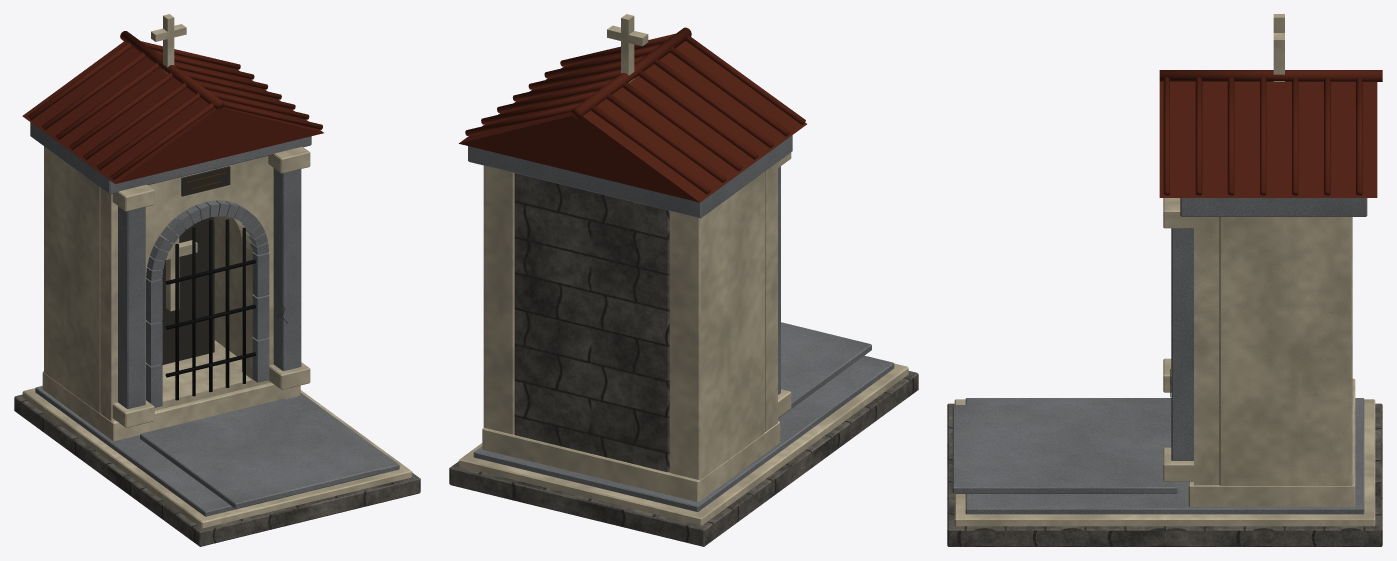
File: tumba_05_capilla_nicho.obj
3 renders of one model, left to right at view 1: azimuth 30°, elevation 25°; view 2: azimuth 150°, elevation 25°; view 3: azimuth 270°, elevation 25°, orthographic. The views are drawn at different scales.
Parts seen in each view (by area): view 1: Tumba_05_Capilla_Nicho; view 2: Tumba_05_Capilla_Nicho; view 3: Tumba_05_Capilla_Nicho.
Part boxes in pixels (<box>): Tumba_05_Capilla_Nicho: <box>14,14,420,546</box>; Tumba_05_Capilla_Nicho: <box>449,14,918,546</box>; Tumba_05_Capilla_Nicho: <box>947,14,1382,546</box>.
Size of the model in its own units: 1.65 by 2.85 by 2.4.
Materials: 7 (3 with a texture image).
